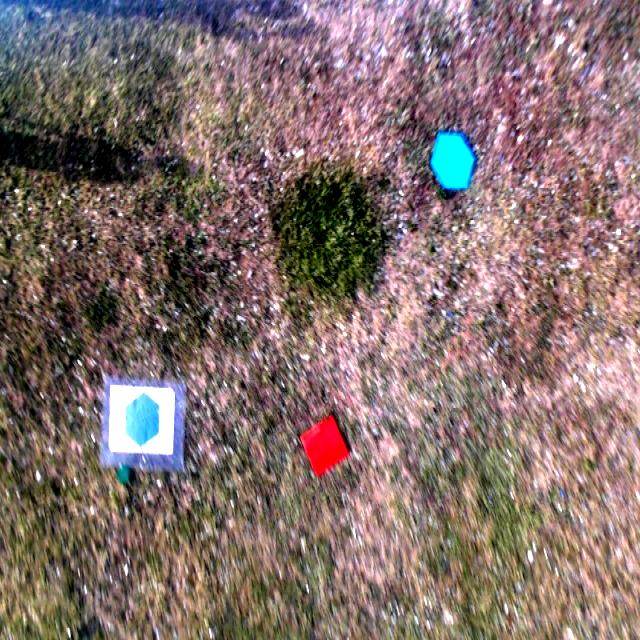blue_hexagon: (429, 128, 477, 197), (124, 390, 160, 452)
red_square: (299, 413, 349, 478)
